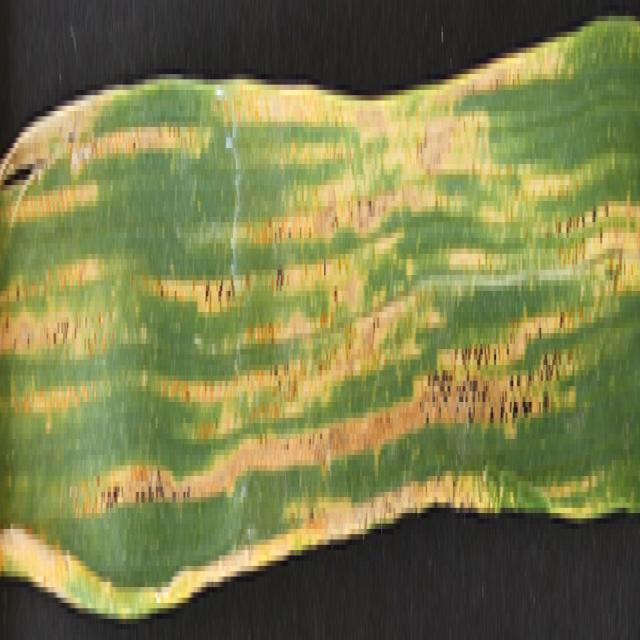leaf rust: (1, 100, 640, 502)
